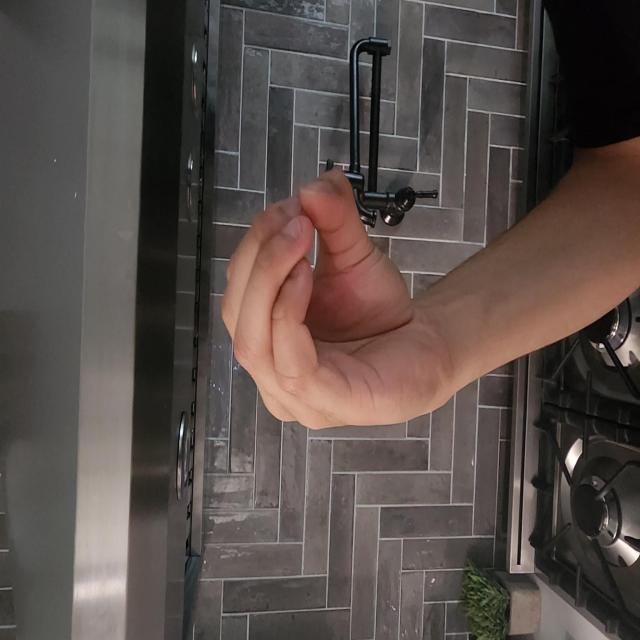O: (155, 294, 359, 614)
